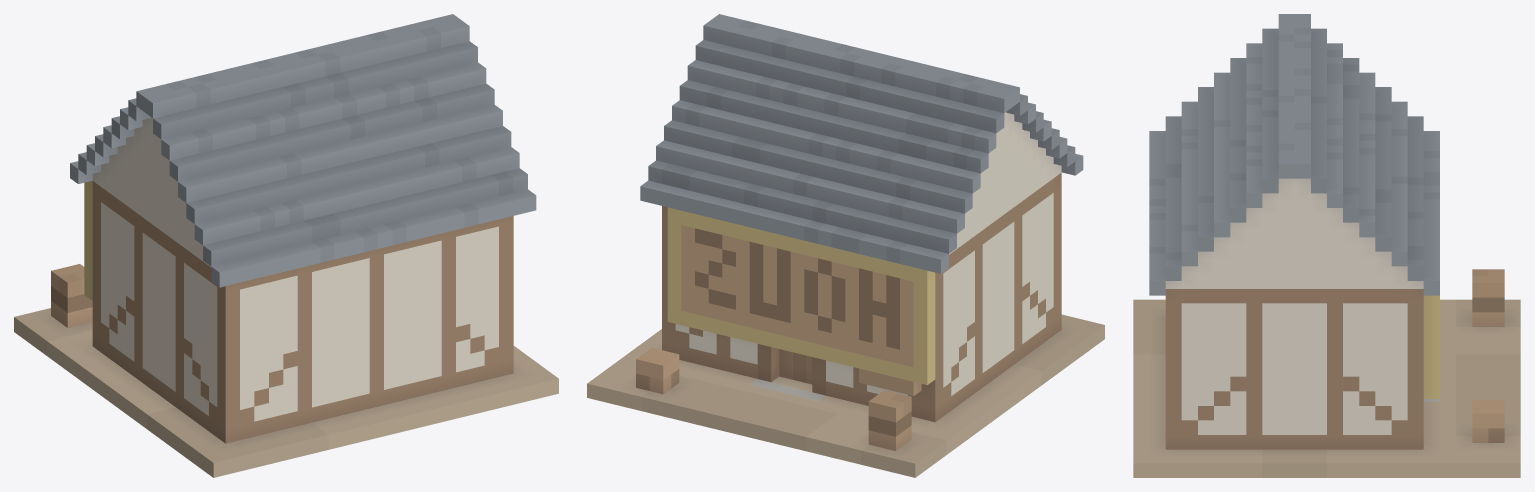
File: house_patricians.glb
3 renders of one model, left to right at view 1: azimuth 30°, elevation 25°; view 2: azimuth 150°, elevation 25°; view 3: azimuth 270°, elevation 25°, orthographic. The views are drawn at different scales.
Parts seen in each view (by area): view 1: house_patricians; view 2: house_patricians; view 3: house_patricians.
Boxes of the visible parts, x1=… form: house_patricians: x1=14, y1=14, x2=558, y2=477; house_patricians: x1=587, y1=14, x2=1104, y2=477; house_patricians: x1=1133, y1=14, x2=1520, y2=477.
Bounding box in the file's own units: 3 × 2.62 × 3.
